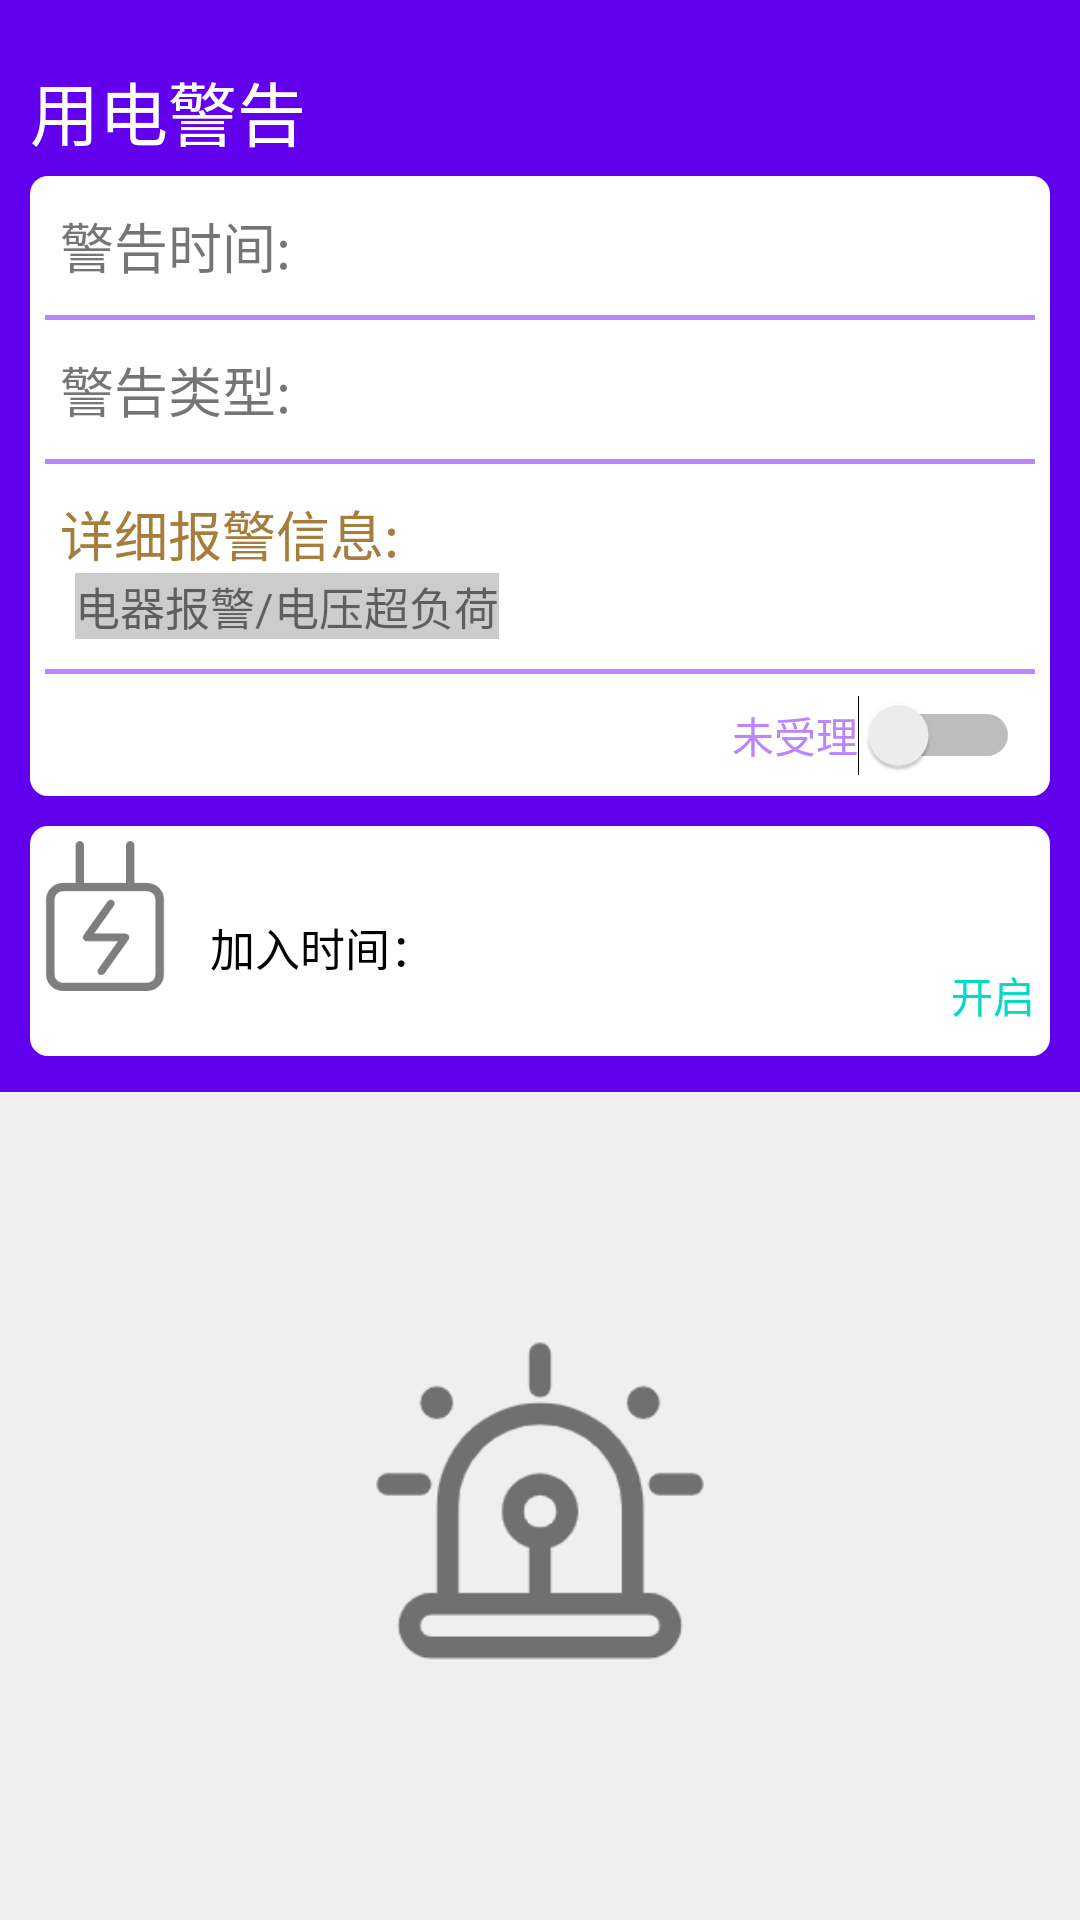

Locate icon controls on the screen. Image size 1080px×1920px, boxes as (left=x1, top=y1, right=x2, bottom=y2).
device: (left=46, top=841, right=164, bottom=991)
